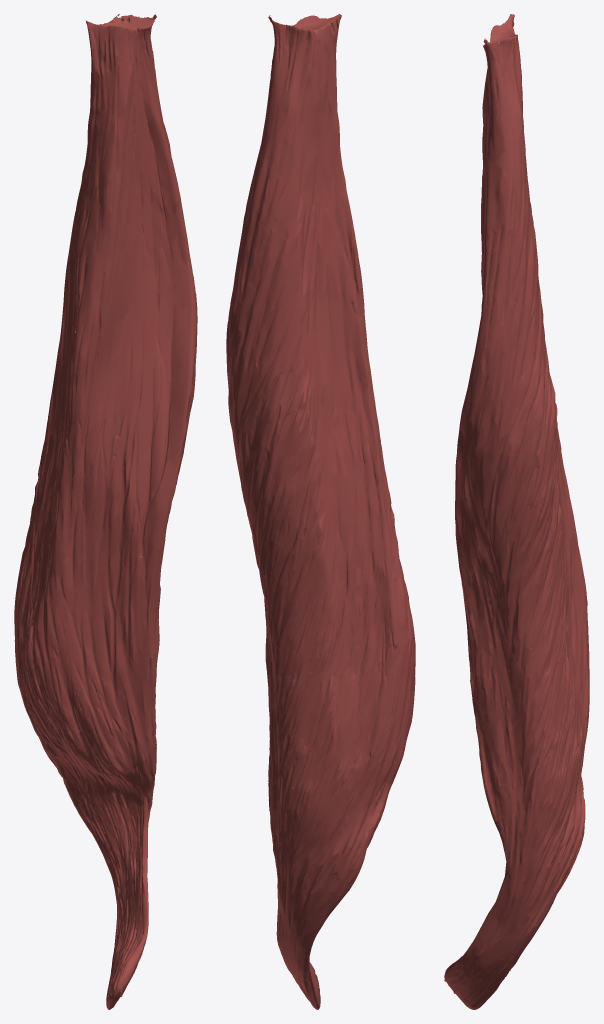
The model's file is FMA22448.glb.
3 renders of one model, left to right at view 1: azimuth 30°, elevation 25°; view 2: azimuth 210°, elevation 25°; view 3: azimuth 270°, elevation 25°, orthographic. The views are drawn at different scales.
Visible parts, largest first — view 1: FMA22448; view 2: FMA22448; view 3: FMA22448.
Boxes of the visible parts, x1,y1,x2,y2 form: FMA22448: (14,14,197,1009); FMA22448: (226,14,415,1009); FMA22448: (444,14,589,1009).
Bounding box in the file's own units: 0.0617 × 0.4044 × 0.0535.
